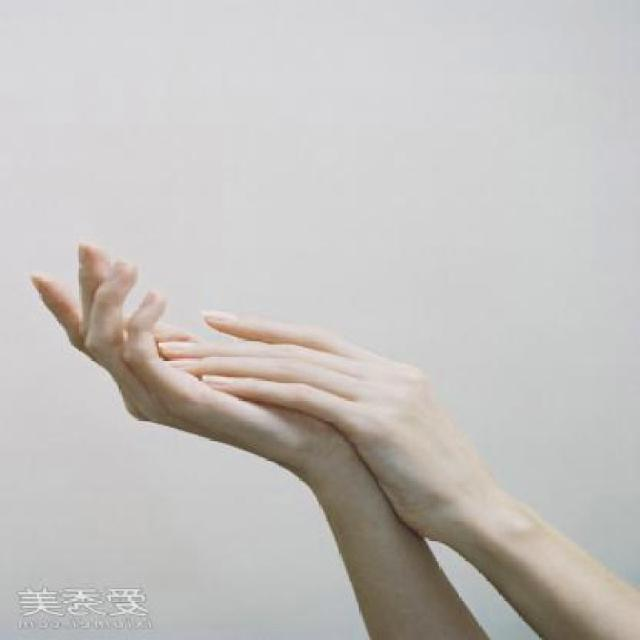hand_noglove: (160, 306, 506, 531), (32, 242, 334, 468)
